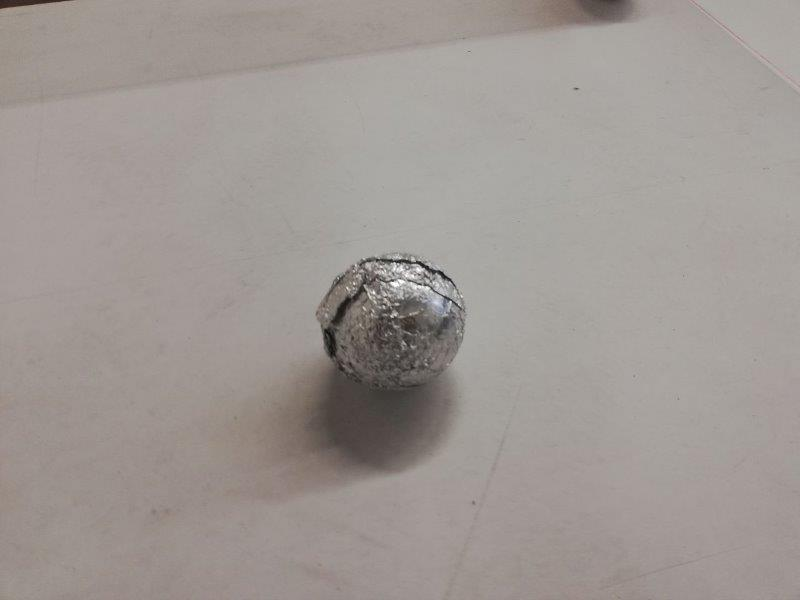bianca: (314, 248, 467, 390)
